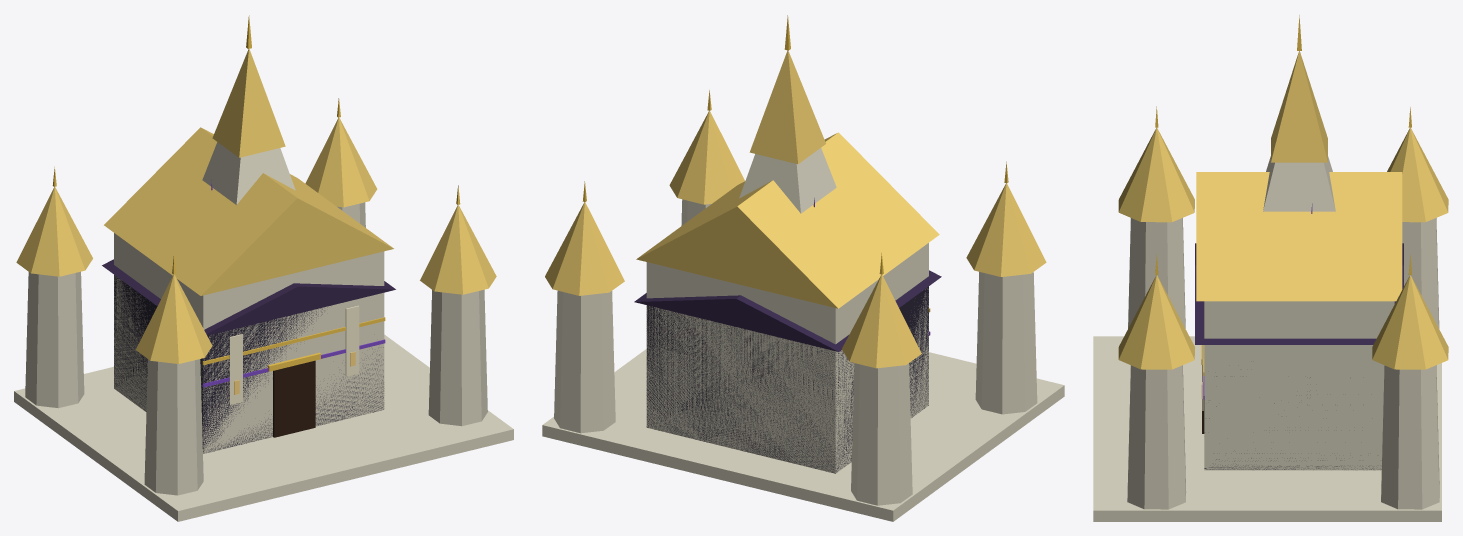
File: Env_Capital.obj
3 renders of one model, left to right at view 1: azimuth 30°, elevation 25°; view 2: azimuth 150°, elevation 25°; view 3: azimuth 270°, elevation 25°, orthographic. The views are drawn at different scales.
Visible parts, largest first — view 1: Env_Capital_Castle_Light, Env_Capital_Castle_Dark; view 2: Env_Capital_Castle_Light, Env_Capital_Castle_Dark; view 3: Env_Capital_Castle_Light, Env_Capital_Castle_Dark.
Part boxes in pixels (box(x1,y1,x2,y2)): Env_Capital_Castle_Light: box(14, 15, 513, 521); Env_Capital_Castle_Dark: box(102, 182, 395, 453); Env_Capital_Castle_Light: box(542, 15, 1064, 521); Env_Capital_Castle_Dark: box(634, 198, 941, 473); Env_Capital_Castle_Light: box(1093, 15, 1448, 521); Env_Capital_Castle_Dark: box(1195, 203, 1403, 469).
Bounding box in the file's own units: 26.82 × 29.3 × 22.41.
